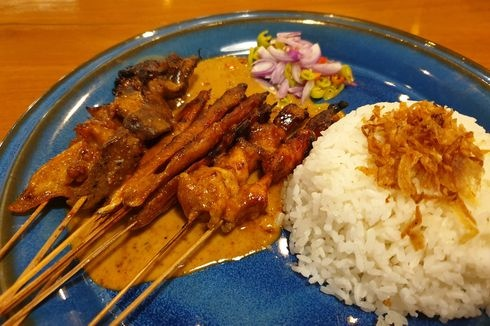sate_madura: (6, 57, 289, 326)
